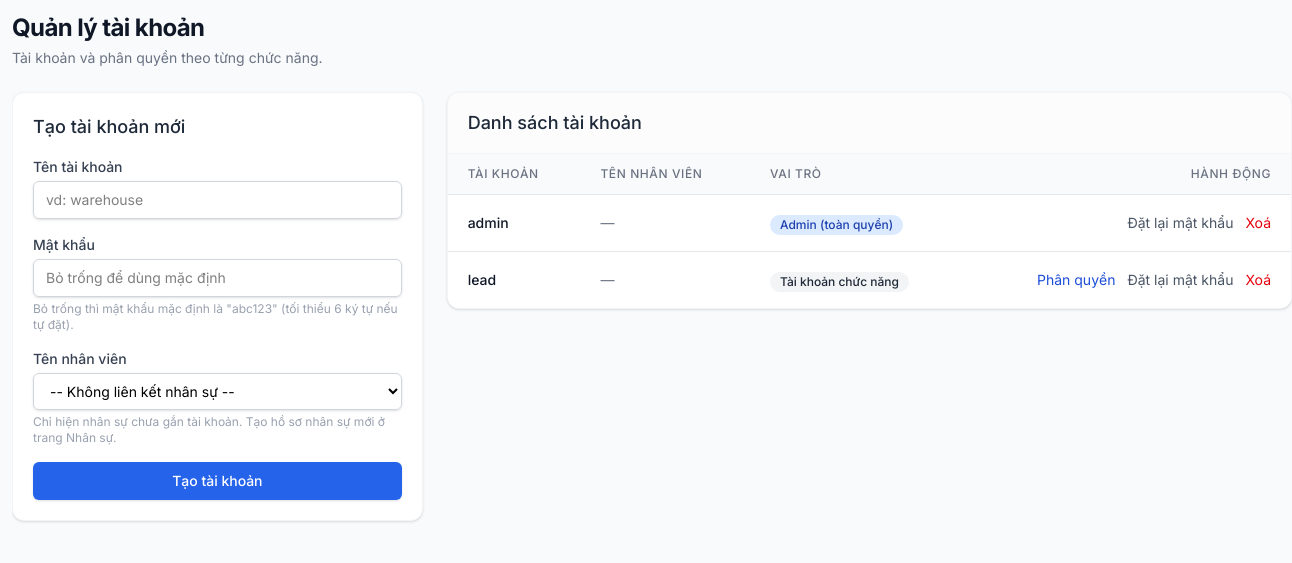
Test case: AccountsPage › đặt lại mật khẩu hiện bảng xác nhận và thông báo kết quả rõ ràng
The width and height of the screenshot is (1292, 563).
Expected: the text "lead" is shown, [448,252,580,308]
Step 1. Click the button "Đặt lại mật khẩu" in the row of "lead" → (1180, 280), box [1128,270,1234,290]
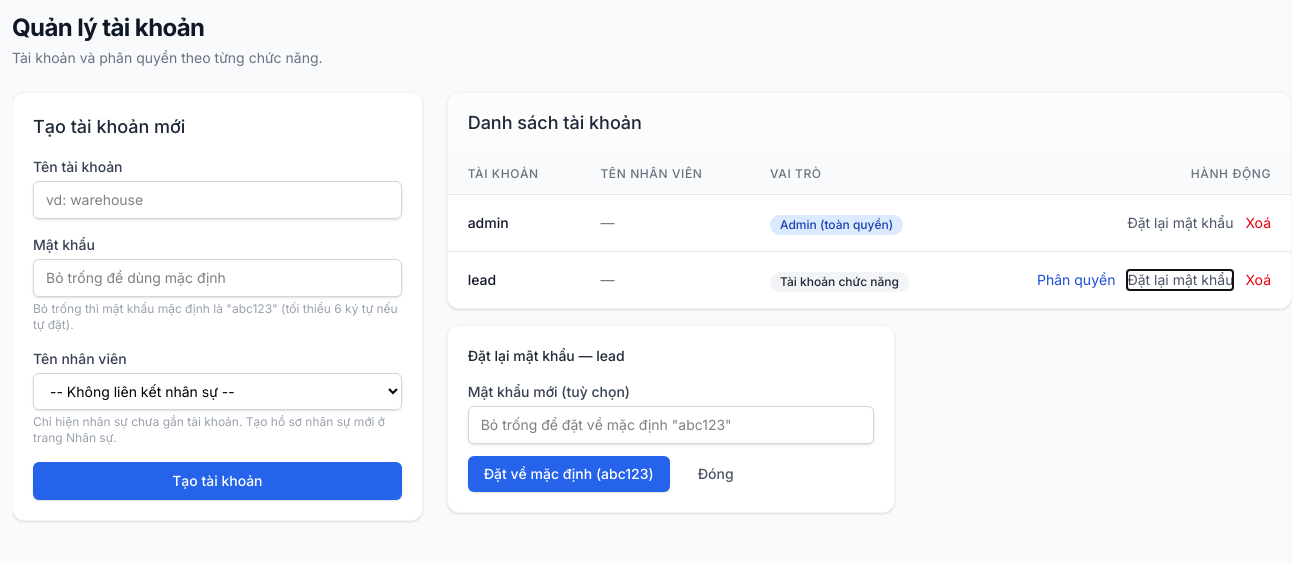
Expected: the heading "Đặt lại mật khẩu — lead" is shown, [468,347,625,364]
Step 2. Click the button "Đặt về mặc định (abc123)" → (569, 474), box [468,456,670,492]
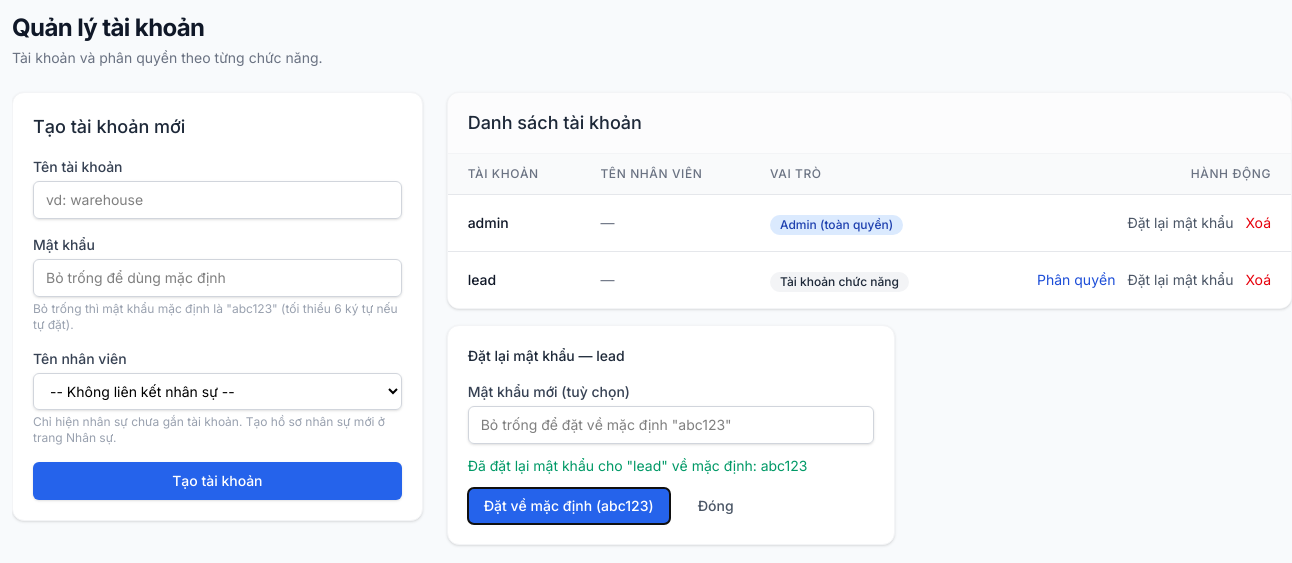
Expected: the text "Đã đặt lại mật khẩu cho \"lead\" về mặc định: abc123" is shown, [468,457,808,474]
